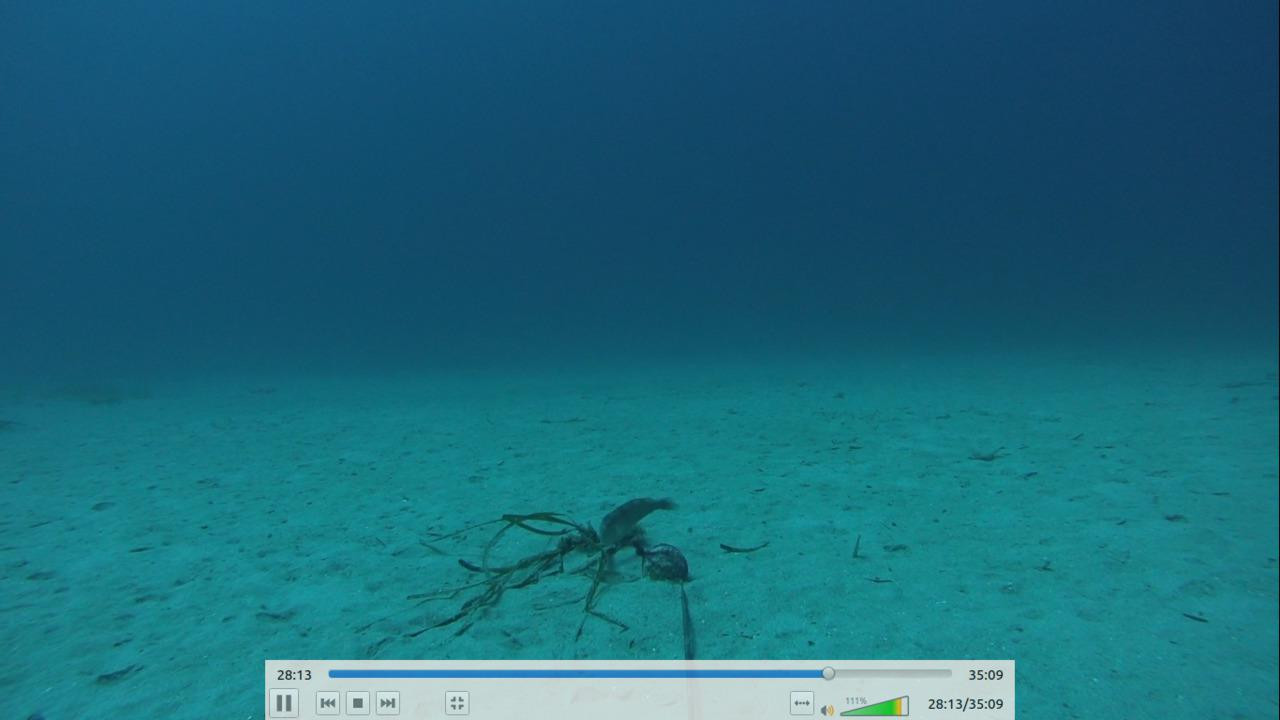raor: (594, 492, 678, 545)
